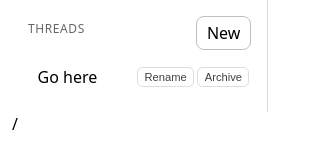
Scenario: ThreadSidebar › routes to a thread when its switch button is clicked
Click the button "Go here". click: (81, 77)
box: [30,60,133,95]
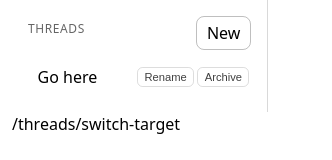
Expected: the text with test id "location" reads "/threads/switch-target", [12,113,180,135]
